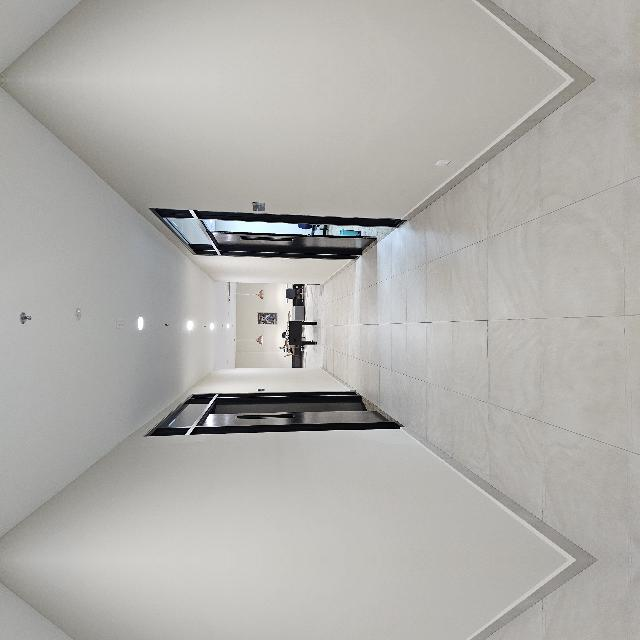door: (126, 273, 174, 467), (306, 274, 348, 478)
obstacle: (210, 365, 250, 399)
